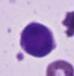L: (18, 21, 58, 58)
